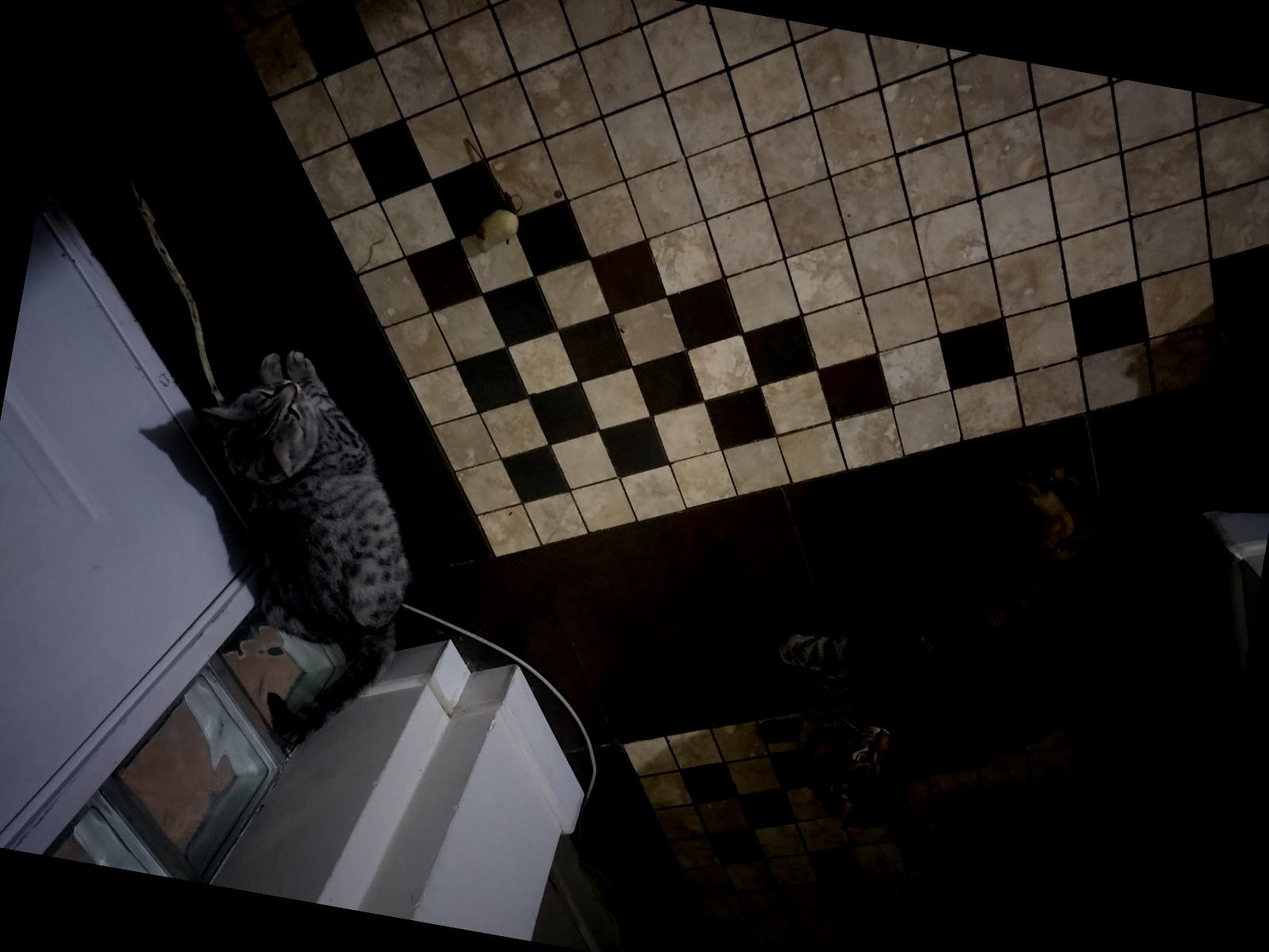macka: (747, 421, 1202, 879), (141, 334, 449, 769)
